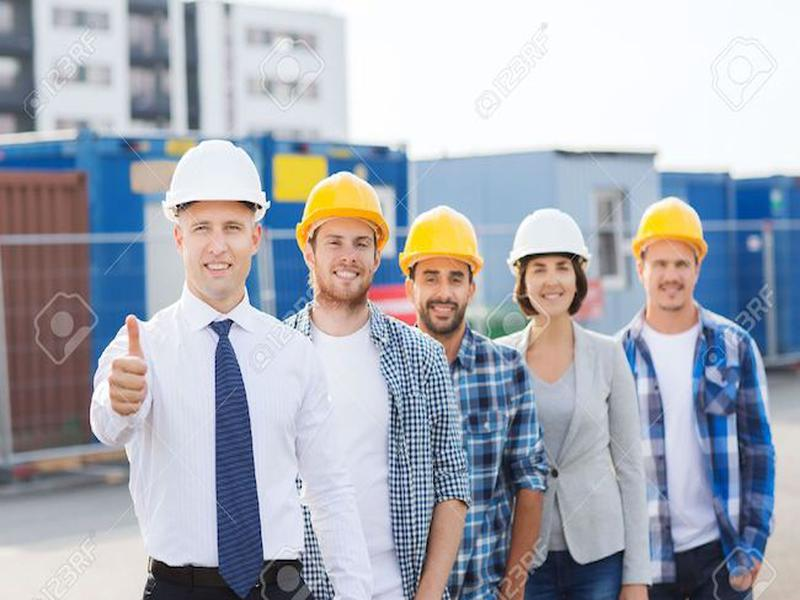hard-hat: (159, 138, 272, 224), (293, 171, 391, 253), (396, 203, 487, 274), (504, 207, 595, 271), (628, 195, 711, 263)
